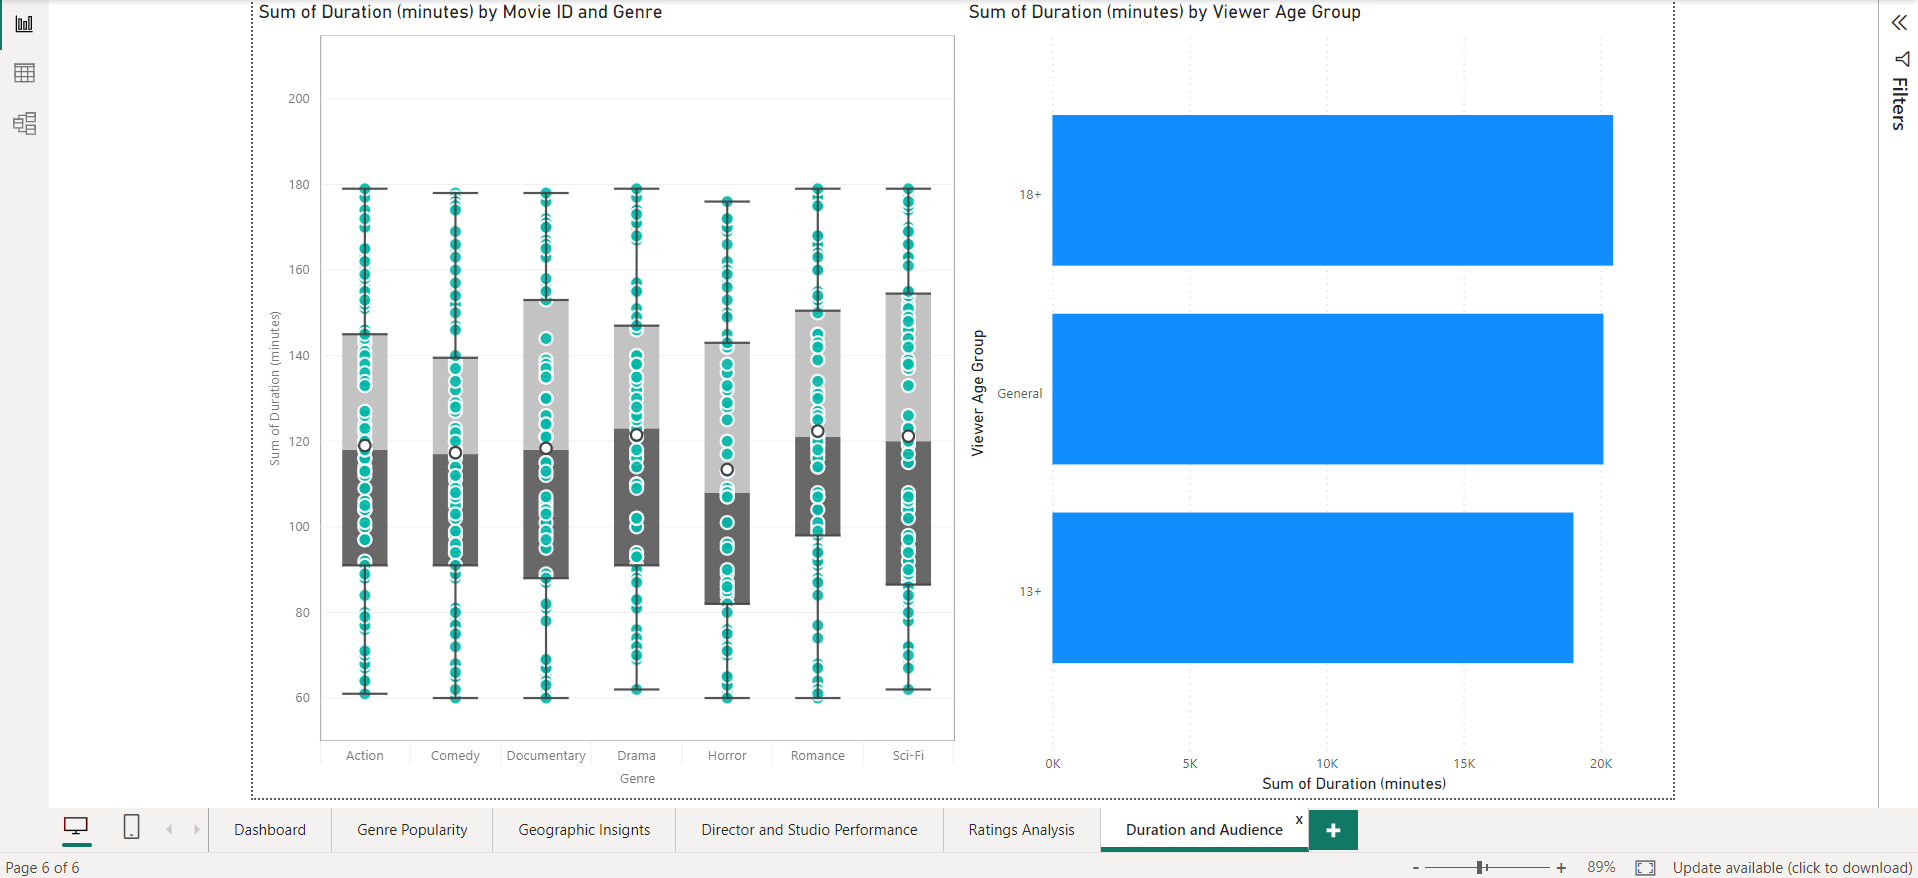

The dashboard page shown, as its layout file describes it:
{"tool":"powerbi","page":{"name":"Duration and Audience","canvas":[1280,720],"ordinal":5},"visuals":[{"type":"clusteredBarChart","fields":{"Category":["global_movie_dataset.Viewer Age Group"],"Y":["Sum(global_movie_dataset.Duration (minutes))"]},"box":[640.5,0,639.3,720],"z":0},{"type":"BoxandWhiskerByMAQ1823AD39DT234AB532063E128AX","fields":{"measure":["Sum(global_movie_dataset.Duration (minutes))"],"category":["global_movie_dataset.Movie ID"],"categoryGroup":["global_movie_dataset.Genre"]},"box":[0,0,639,720],"z":1000}]}

Visuals, with their boxes on the page's 1280x720 design canvas (x1, y1, x2, y2). These are canvas units, not pixel positions in the 1918x878 screenshot, which may show the page scaled, cropped or inside an application window:
clusteredBarChart - global_movie_dataset.Viewer Age Group x Sum(global_movie_dataset.Duration (minutes)): (x1=640, y1=0, x2=1280, y2=720)
BoxandWhiskerByMAQ1823AD39DT234AB532063E128AX - Sum(global_movie_dataset.Duration (minutes)) x global_movie_dataset.Movie ID: (x1=0, y1=0, x2=639, y2=720)
